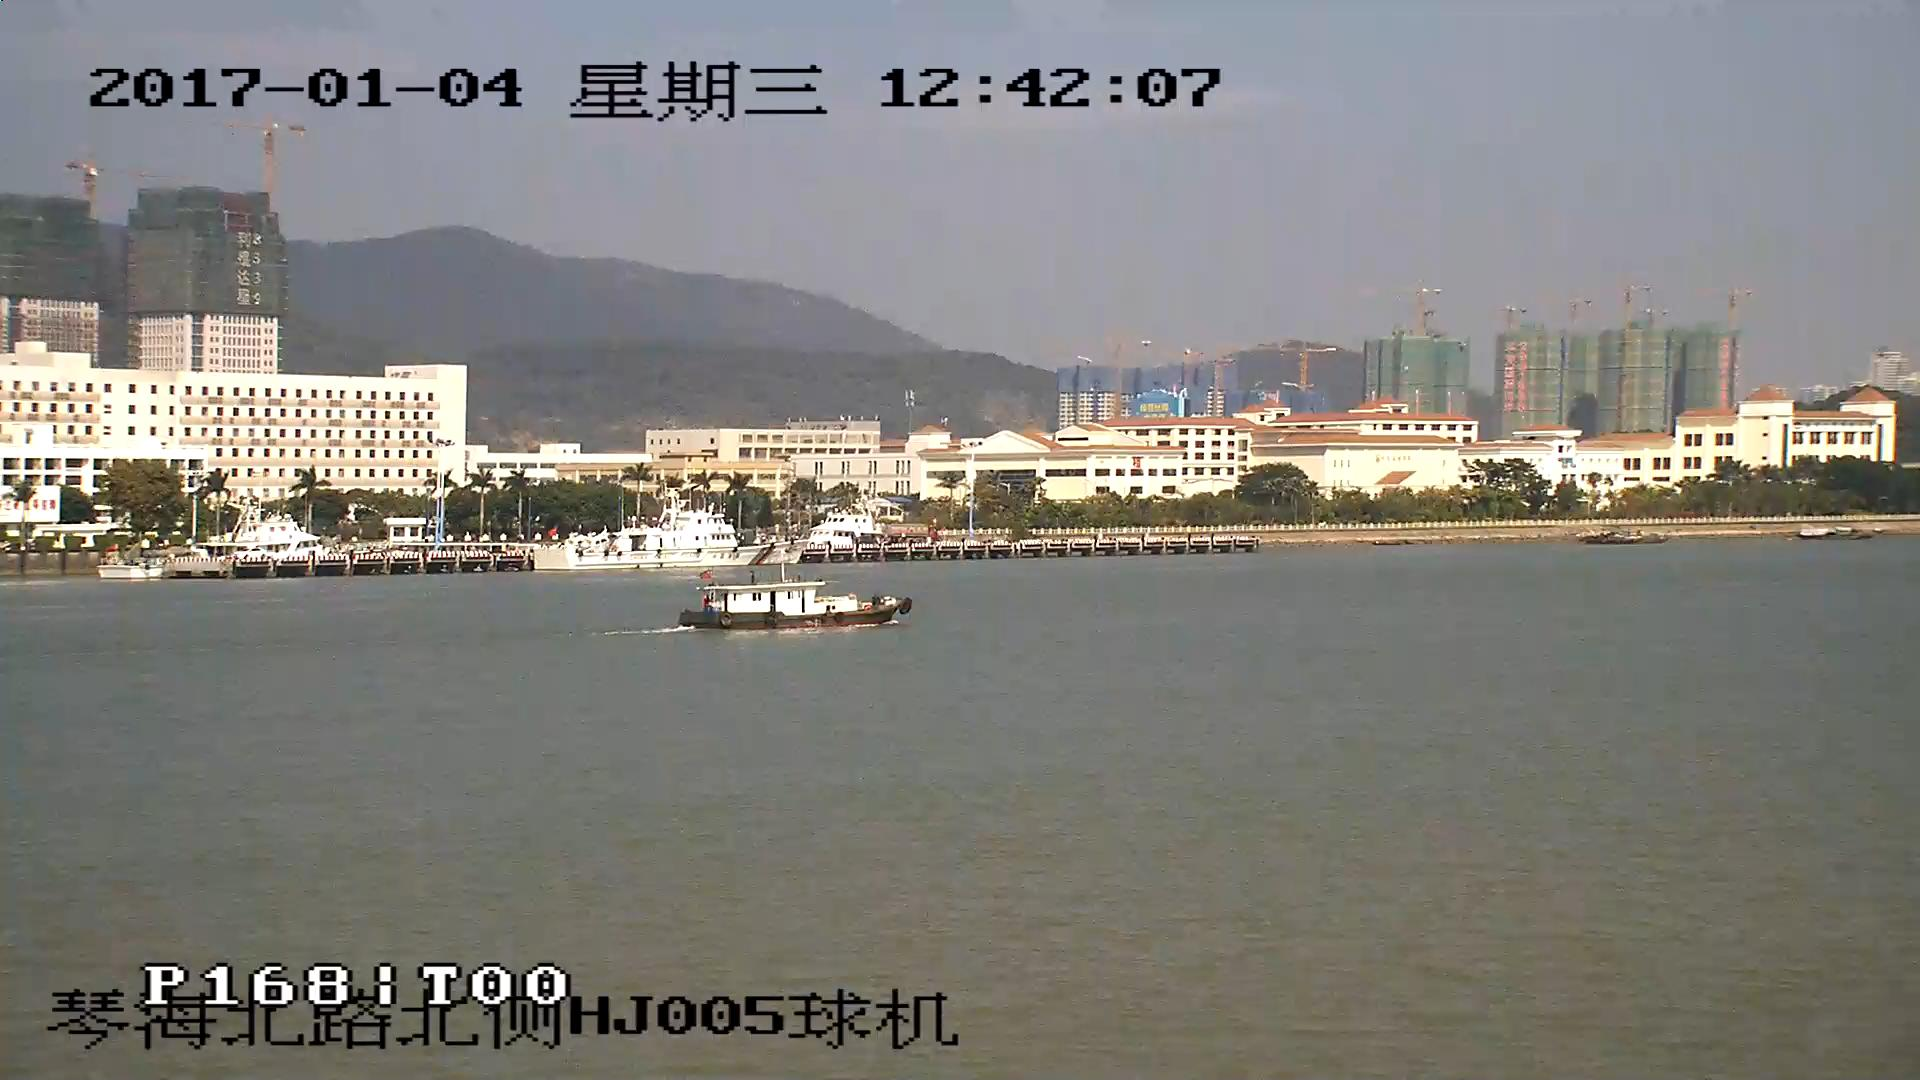fishing boat: (681, 573, 912, 632)
